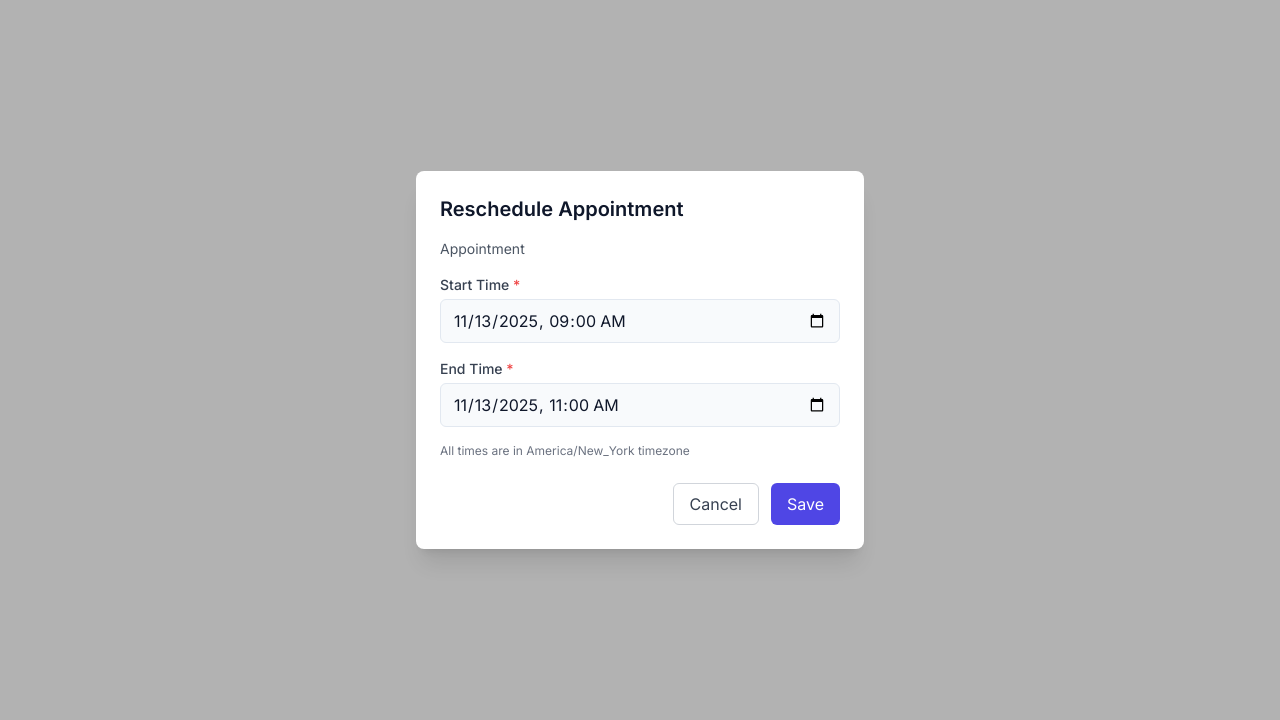
it: RescheduleModal › Successful submit with ISO conversion › should handle async submit with loading state
Click the button "Save" at (806, 504), box left=771, top=483, right=840, bottom=525
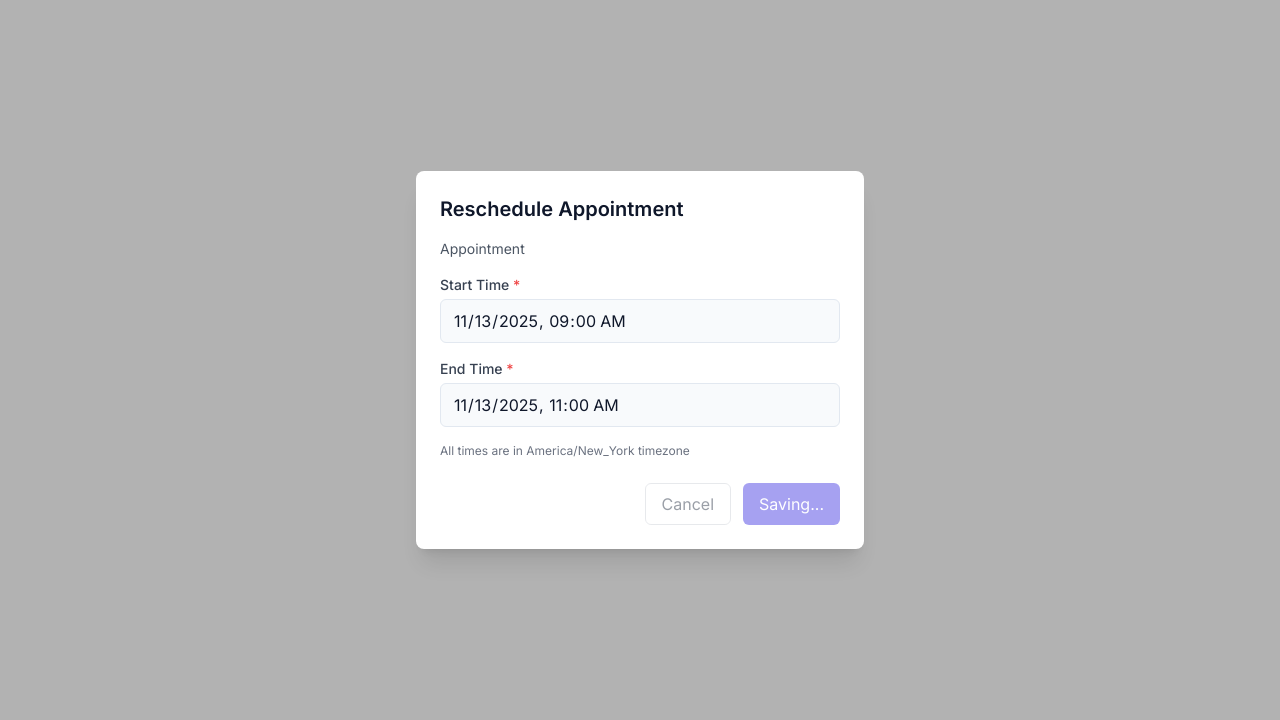
Result: the button "Saving..." is shown at left=743, top=483, right=840, bottom=525
